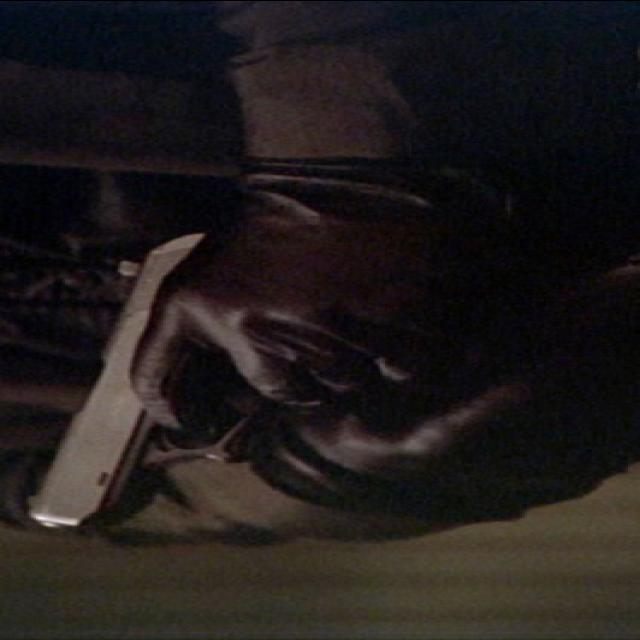weapons: (18, 225, 384, 534)
